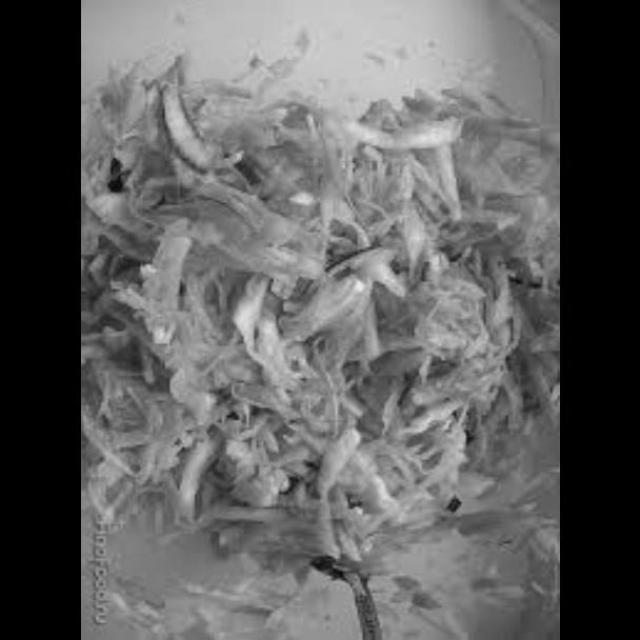ca rot: (100, 171, 311, 277), (474, 287, 560, 486), (117, 330, 308, 414), (154, 84, 223, 175), (472, 98, 560, 169), (245, 104, 328, 172)
cabbage: (338, 394, 468, 560), (349, 91, 476, 208), (150, 426, 277, 540), (308, 247, 408, 361), (164, 573, 316, 640), (379, 590, 490, 639)
